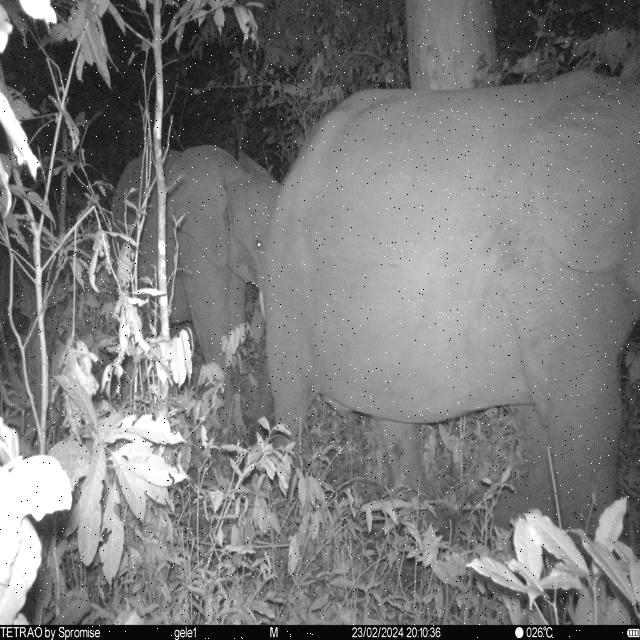calf: (110, 146, 281, 378)
ear: (528, 68, 640, 278), (166, 145, 230, 269)
elephant: (265, 68, 640, 548)
